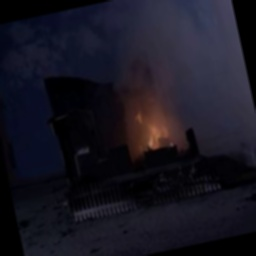fire: (120, 77, 188, 163)
smoke: (114, 0, 247, 104)
